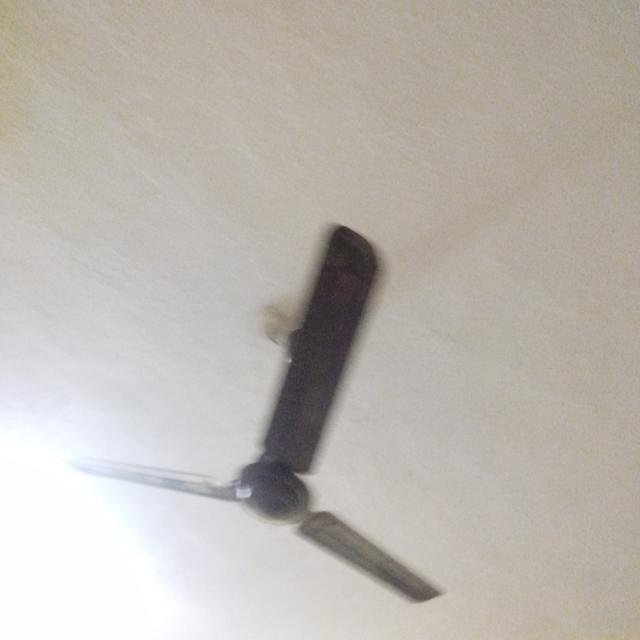fan_off: (68, 222, 448, 604)
